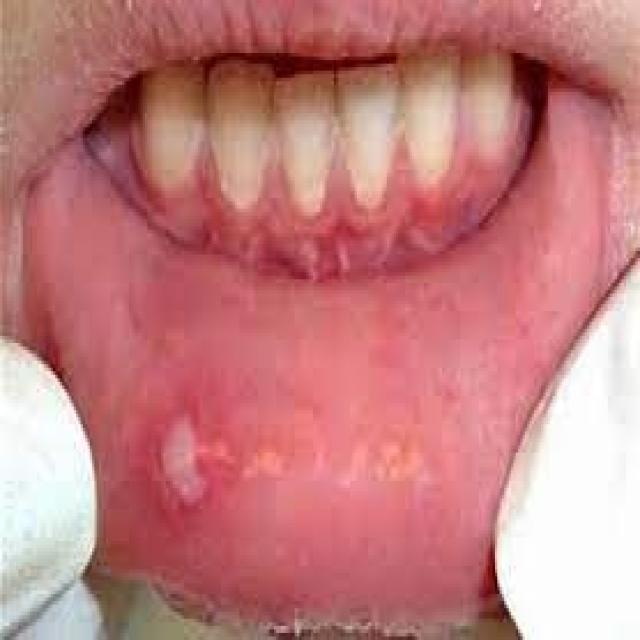processing_area: (20, 70, 624, 594)
ulcer-detection: (128, 365, 236, 537)
